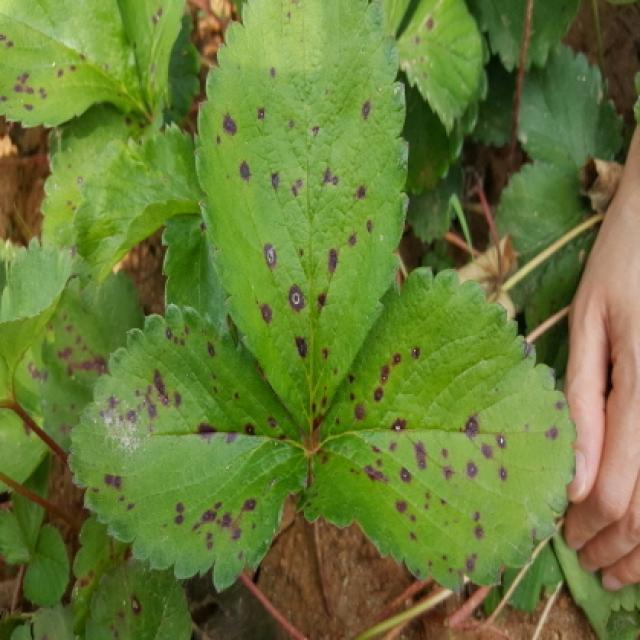Leaf Spot: (193, 0, 412, 438), (300, 260, 580, 596), (66, 303, 311, 596), (12, 267, 147, 454), (2, 0, 168, 129), (38, 103, 165, 250), (396, 0, 485, 137), (83, 557, 188, 638), (145, 0, 206, 135), (70, 518, 130, 638)
